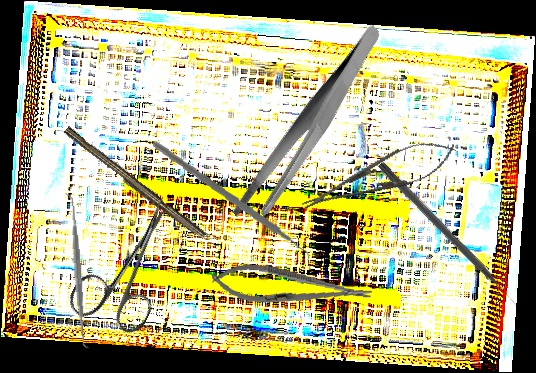Chopper: (145, 141, 319, 271)
Dressing Forceps: (196, 23, 424, 231)
Iris Scissors: (64, 181, 199, 344)
Needle Holder: (295, 129, 462, 224), (209, 258, 374, 316)
Pusher: (375, 161, 521, 310)
Scalpel Handle: (60, 125, 209, 243)
Spatula Surgical: (63, 191, 92, 350)
